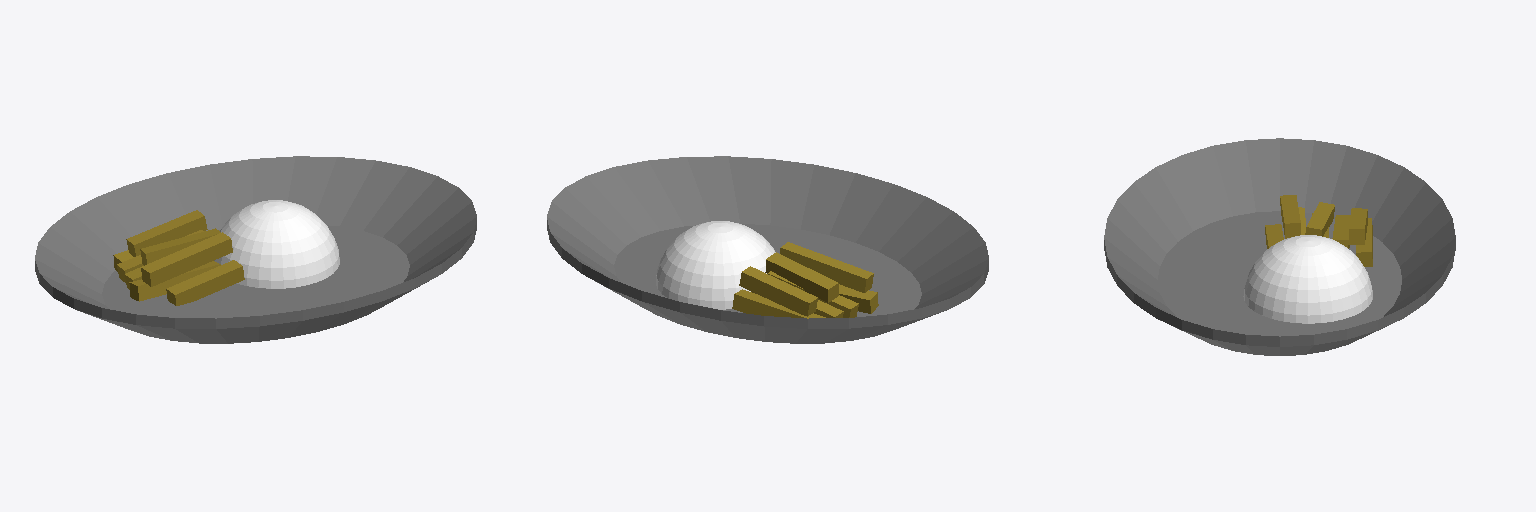
The model's file is rice1_meat3_veg0.obj.
3 renders of one model, left to right at view 1: azimuth 30°, elevation 25°; view 2: azimuth 150°, elevation 25°; view 3: azimuth 270°, elevation 25°, orthographic.
Visible parts, largest first — view 1: Cylinder, Sphere, Cube.007, Cube.004_Cube.005, Cube.005_Cube.000, Cube.002_Cube.003, Cube.006; view 2: Cylinder, Sphere, Cube.007, Cube.005_Cube.000, Cube.006, Cube.003_Cube.004, Cube.002_Cube.003, Cube.001_Cube.002; view 3: Cylinder, Sphere, Cube.007, Cube.006, Cube.005_Cube.000.
Boxes of the visible parts, box(x1,y1,x2,y2) form: Cylinder: box(35, 156, 476, 343); Sphere: box(214, 200, 339, 288); Cube.007: box(141, 232, 232, 286); Cube.004_Cube.005: box(166, 260, 244, 305); Cube.005_Cube.000: box(126, 210, 207, 256); Cube.002_Cube.003: box(129, 261, 220, 301); Cube.006: box(140, 228, 220, 265); Cylinder: box(547, 156, 988, 343); Sphere: box(656, 221, 775, 309); Cube.007: box(780, 242, 873, 292); Cube.005_Cube.000: box(739, 266, 817, 316); Cube.006: box(765, 252, 838, 302); Cube.003_Cube.004: box(732, 289, 825, 318); Cube.002_Cube.003: box(839, 284, 878, 313); Cube.001_Cube.002: box(767, 271, 858, 317); Cylinder: box(1104, 138, 1455, 355); Sphere: box(1243, 235, 1372, 323); Cube.007: box(1280, 195, 1300, 238); Cube.006: box(1305, 202, 1334, 236); Cube.005_Cube.000: box(1349, 208, 1367, 244).
Size of the model in its own units: 5.75 by 0.85 by 4.31.